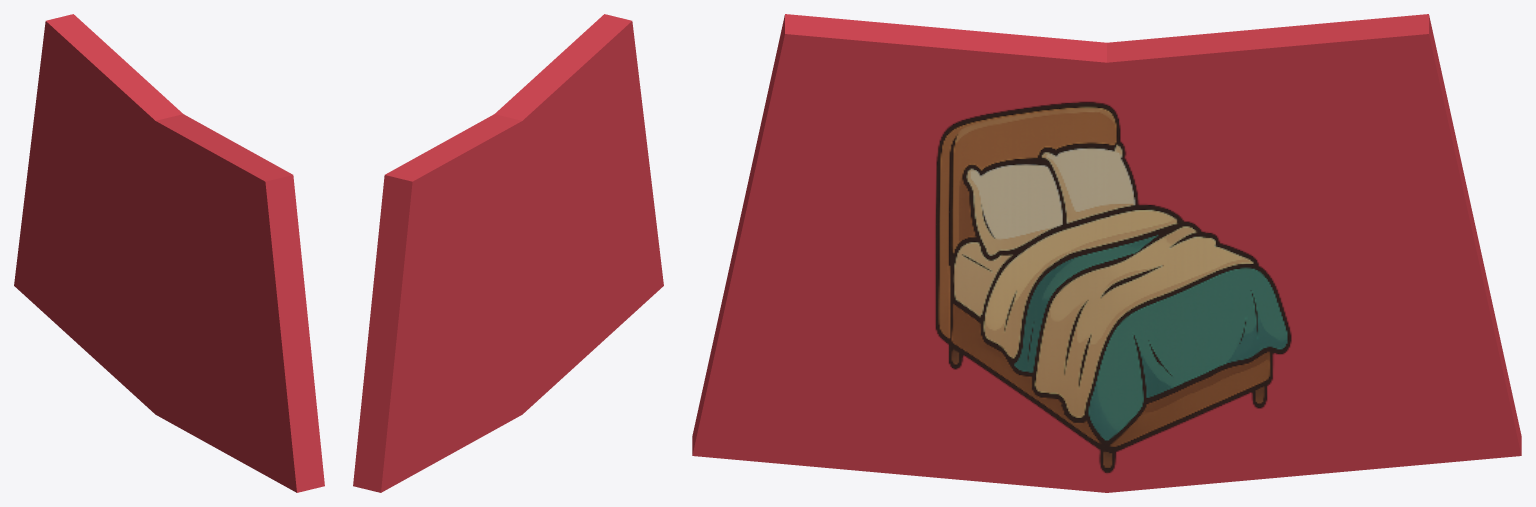
The model's file is SingleTile.fbx.
The picture shows the model from 3 angles, left to right: view 1: azimuth 30°, elevation 25°; view 2: azimuth 150°, elevation 25°; view 3: azimuth 270°, elevation 25°; orthographic projection. The views are drawn at different scales.
Parts seen in each view (by area): view 1: Cylinder; view 2: Cylinder; view 3: Cylinder.
Boxes of the visible parts, <box> form: Cylinder: <box>14,14,324,492</box>; Cylinder: <box>353,14,663,492</box>; Cylinder: <box>692,14,1521,492</box>.
Size of the model in its own units: 2 by 21.44 by 35.1.
Materials: 1 (1 with a texture image).
